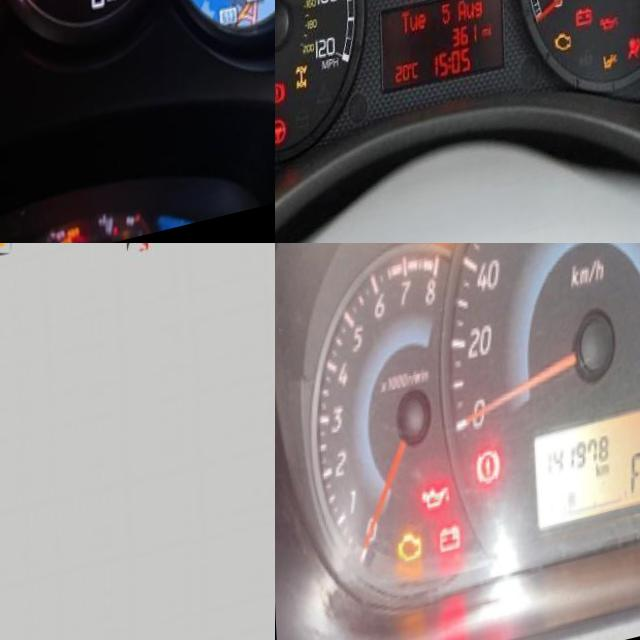Electronic Power Steering: (275, 124, 281, 153)
